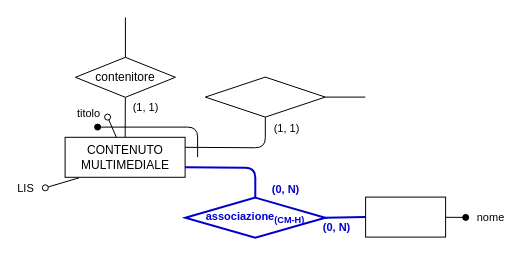
This 521x256 diagram has some shape labels left out. Here are the shapes that lost their labels. From the top down, the centre of each, then its label:
At (264,96): "appartenenza".
At (405,216): "HASHTAG".
